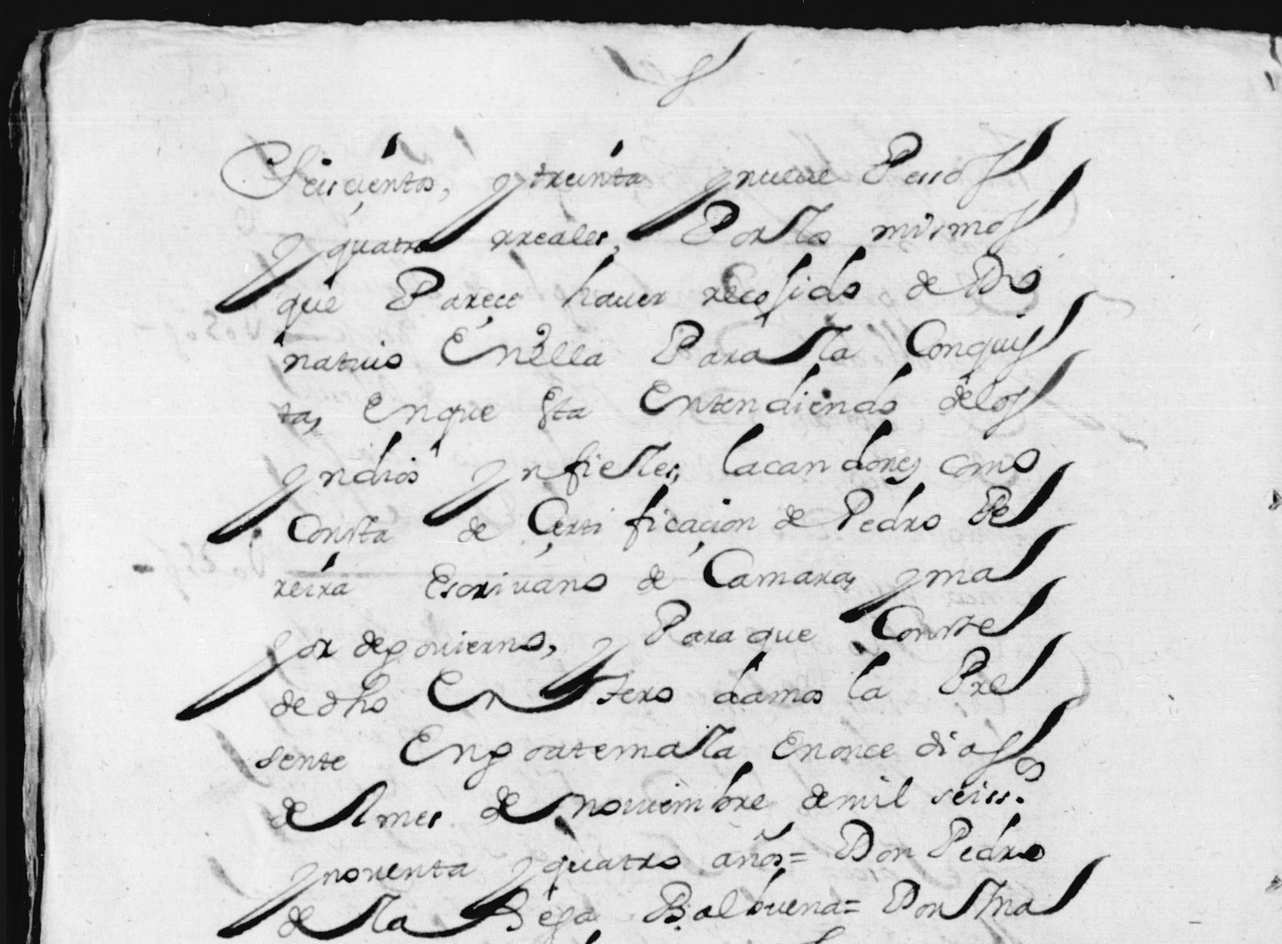lacandon: (723, 419, 920, 485)
